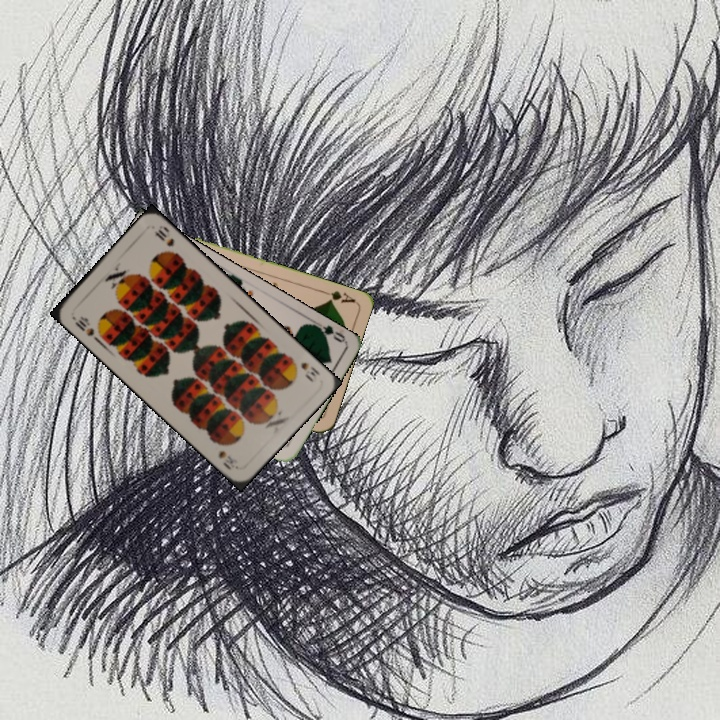GA: (318, 286, 358, 306)
GO: (308, 317, 347, 345)
S10: (287, 354, 323, 385), (68, 312, 97, 339)
